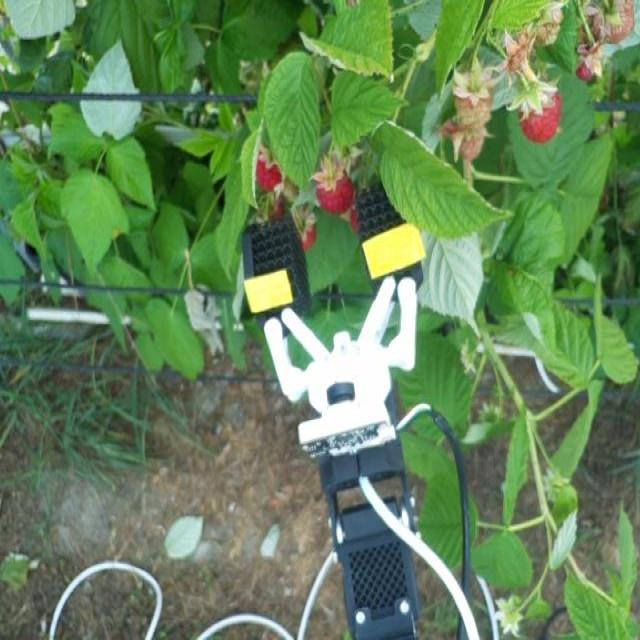Riped berries: (511, 74, 565, 144), (315, 163, 358, 214), (287, 210, 322, 258), (254, 144, 288, 192)
